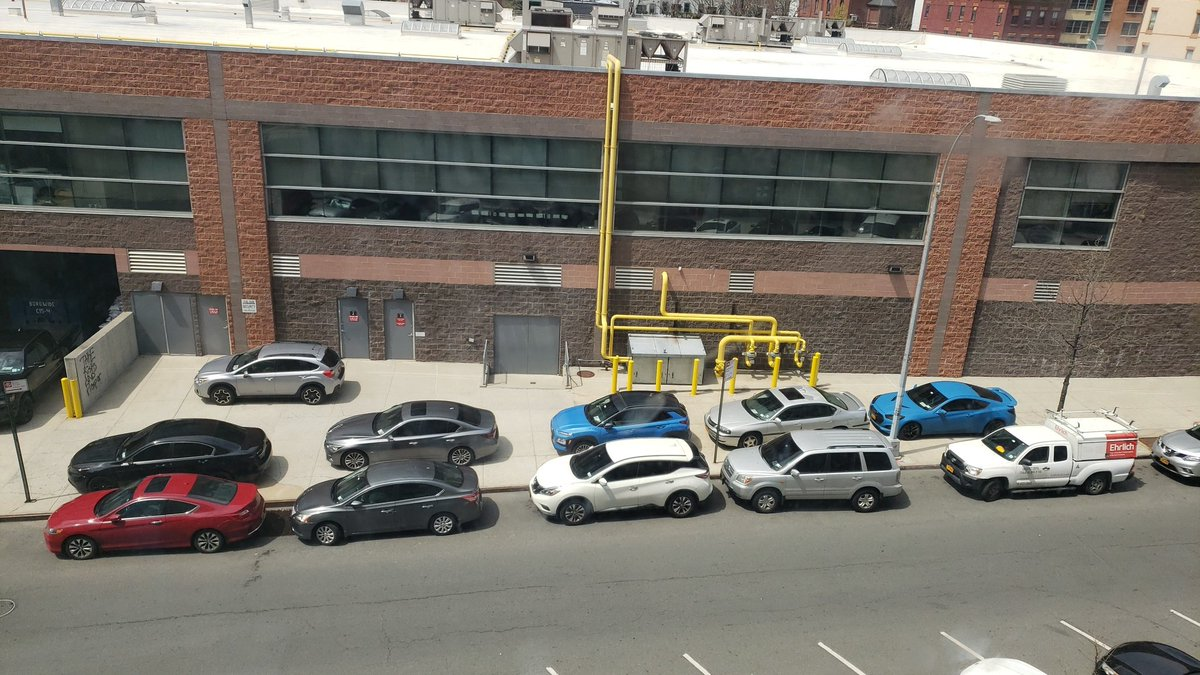building: (1, 23, 1169, 383)
car: (921, 409, 1141, 509), (26, 475, 265, 566), (279, 454, 489, 549), (527, 432, 711, 520), (729, 426, 913, 514), (51, 413, 272, 482), (319, 397, 498, 464), (701, 378, 870, 447), (860, 373, 1029, 442), (201, 336, 347, 408), (545, 388, 698, 452)
street: (1, 481, 1177, 675)
